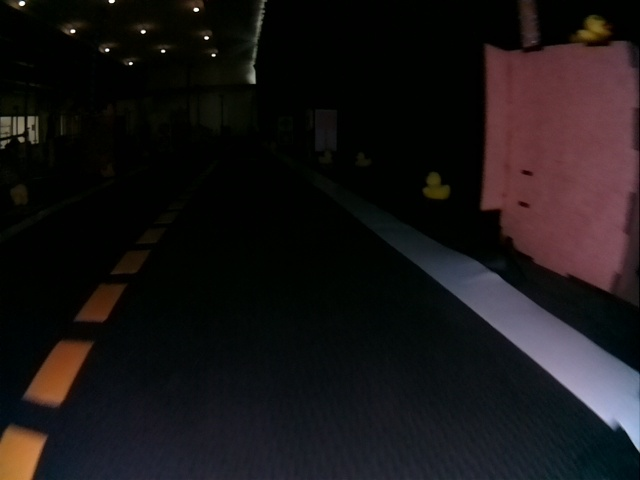Duckie: (573, 16, 610, 43), (425, 172, 448, 199), (11, 185, 28, 204), (358, 155, 368, 165), (321, 152, 331, 160)
